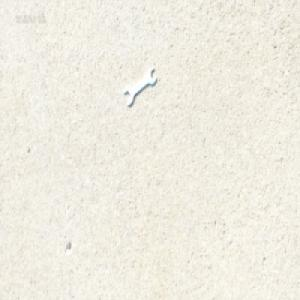Wrench: (124, 67, 157, 106)
